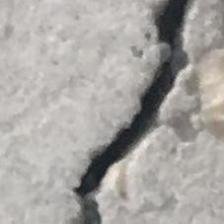Crack: (62, 0, 210, 224)
